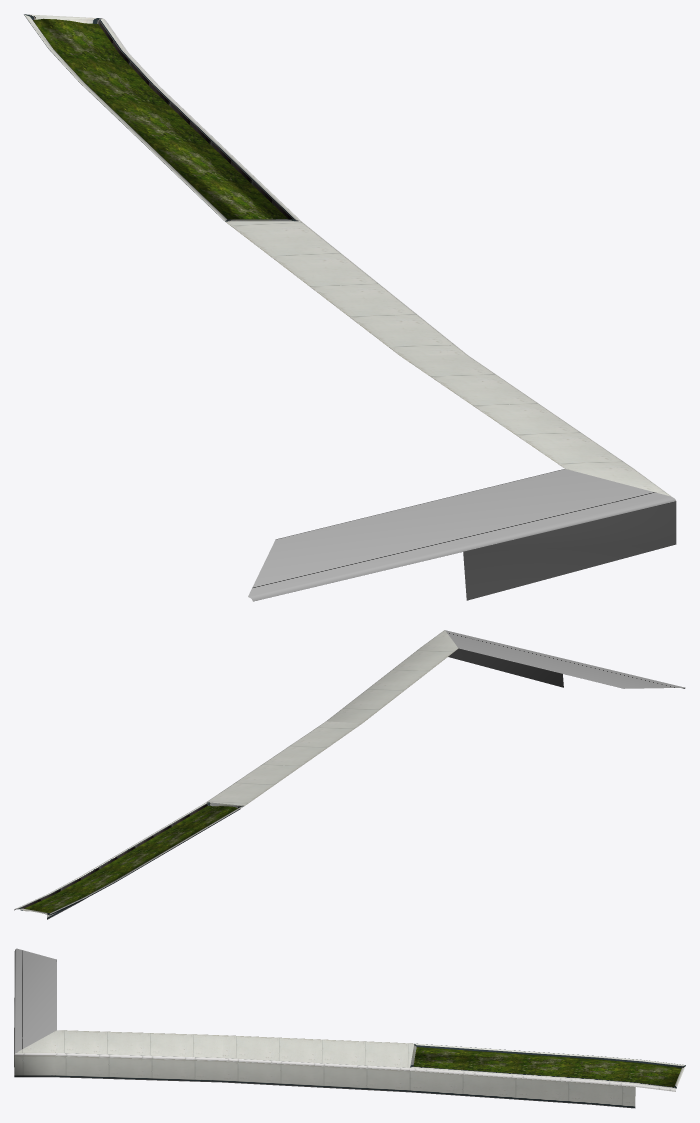
The model's file is STA20_ClubExtPartB.FBX.
The picture shows the model from 3 angles, top to bottom: view 1: azimuth 30°, elevation 25°; view 2: azimuth 150°, elevation 25°; view 3: azimuth 270°, elevation 25°; orthographic projection. The views are drawn at different scales.
Parts seen in each view (by area): view 1: STA20_ClubExtPartB; view 2: STA20_ClubExtPartB; view 3: STA20_ClubExtPartB.
Part boxes in pixels (x1=…): STA20_ClubExtPartB: x1=24, y1=14, x2=676, y2=601; STA20_ClubExtPartB: x1=14, y1=630, x2=685, y2=919; STA20_ClubExtPartB: x1=14, y1=948, x2=685, y2=1108.
Size of the model in its own units: 34.81 by 5.59 by 78.21.
